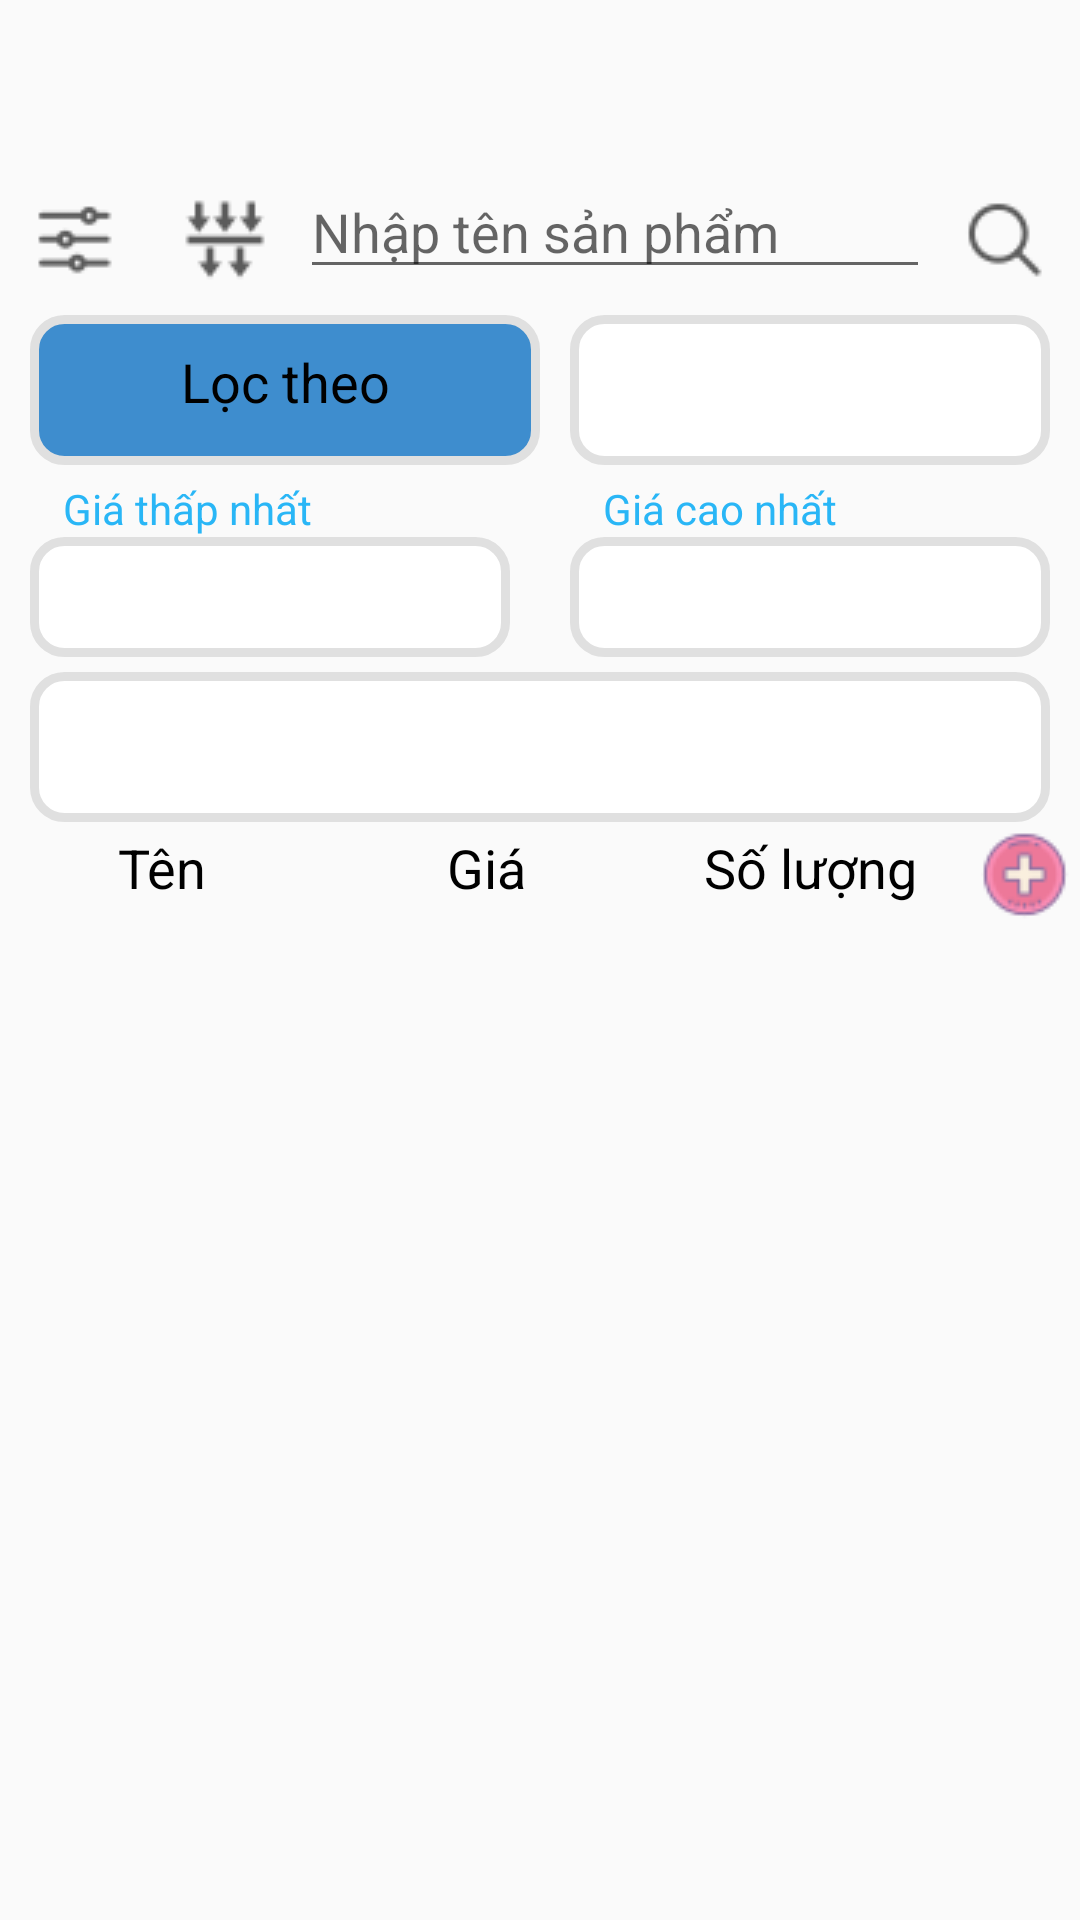

Icons on this 1080×1920 Android screen, each with its box as (x1, y1, x2, y2):
search: (968, 203, 1042, 277)
sorttouch: (185, 200, 265, 277)
